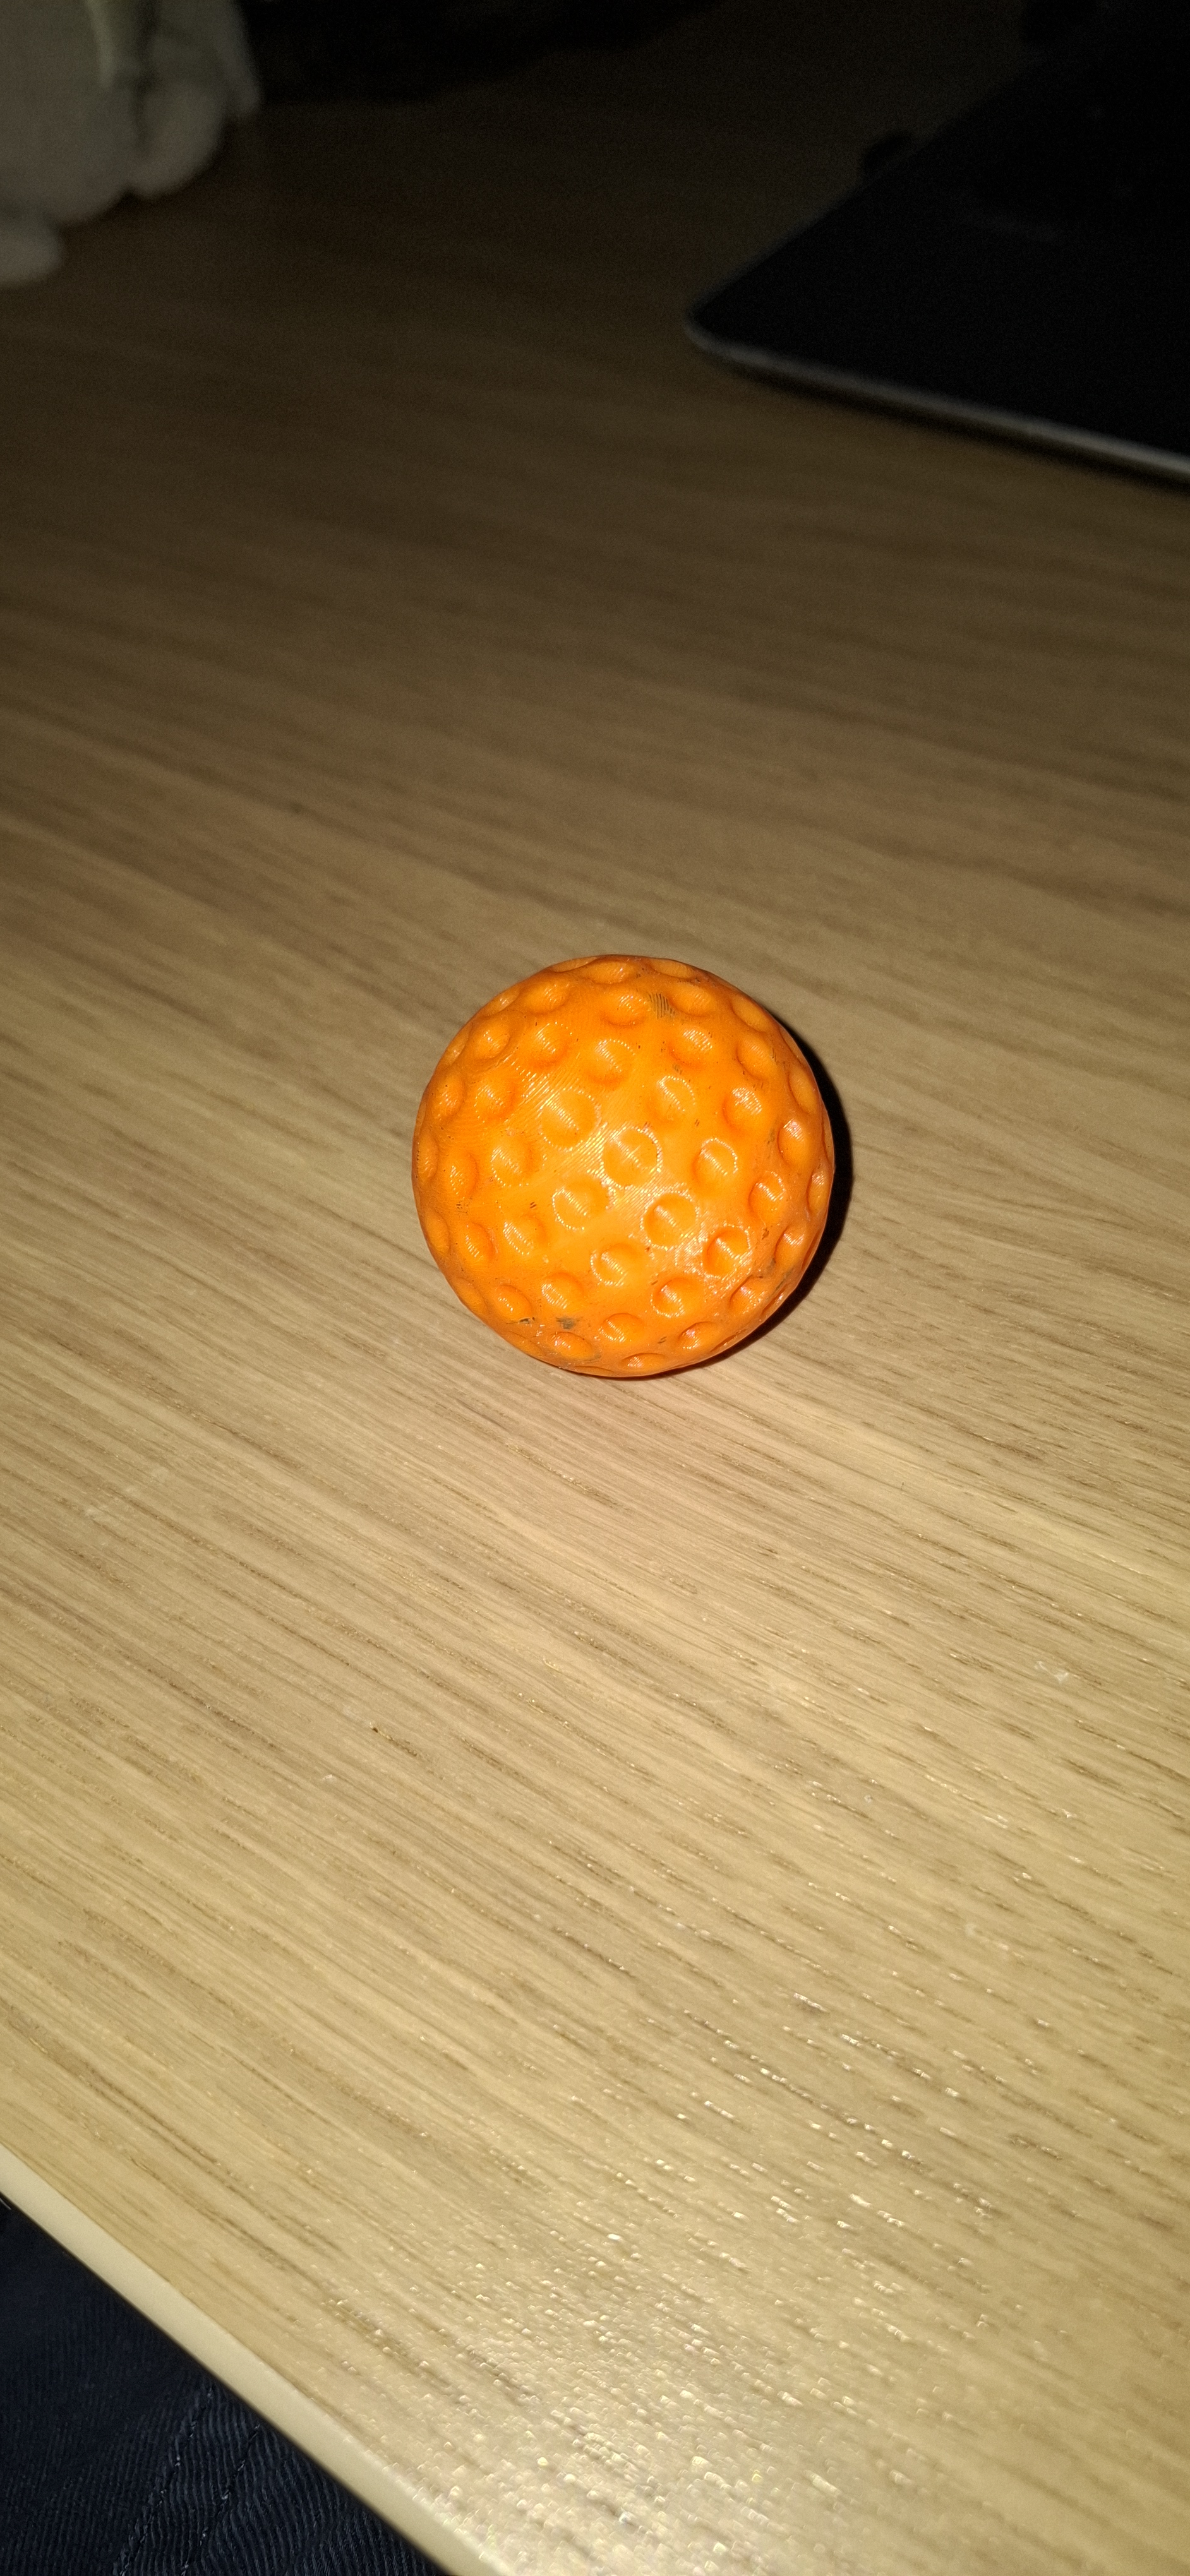ball: (437, 752, 636, 1697)
